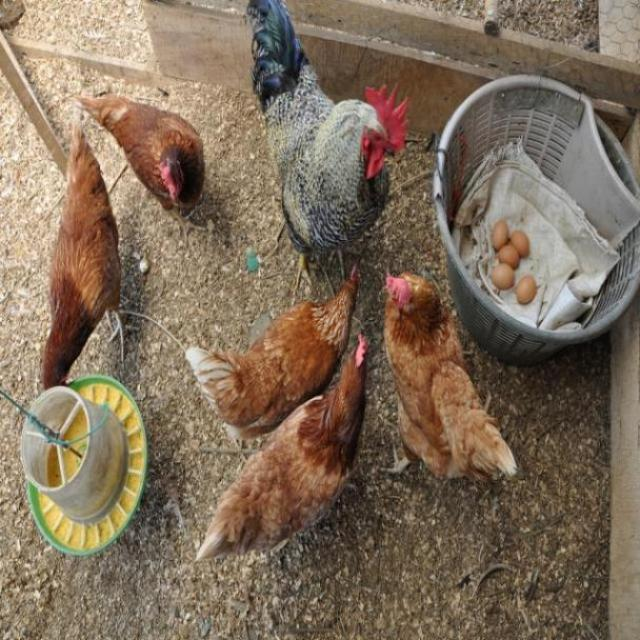Chicken: (185, 330, 382, 594), (241, 0, 411, 293), (181, 257, 367, 454), (38, 102, 139, 398), (382, 270, 519, 475), (73, 90, 210, 255)
